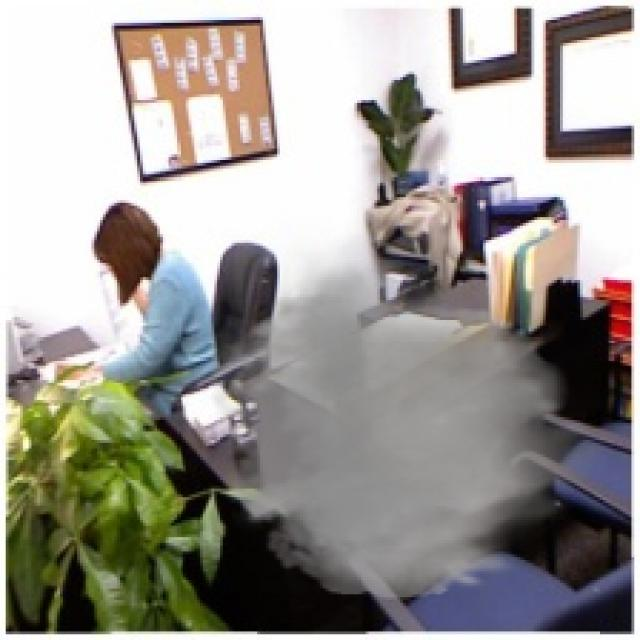smoke: (192, 234, 617, 609)
